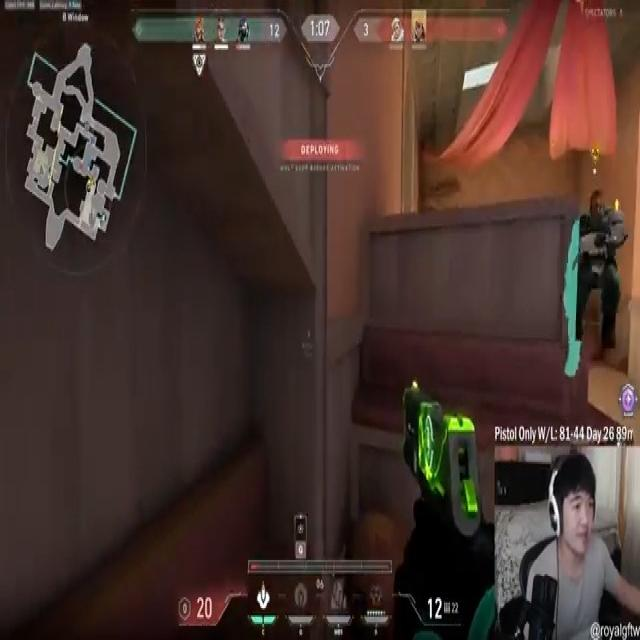ally: (566, 190, 622, 381)
